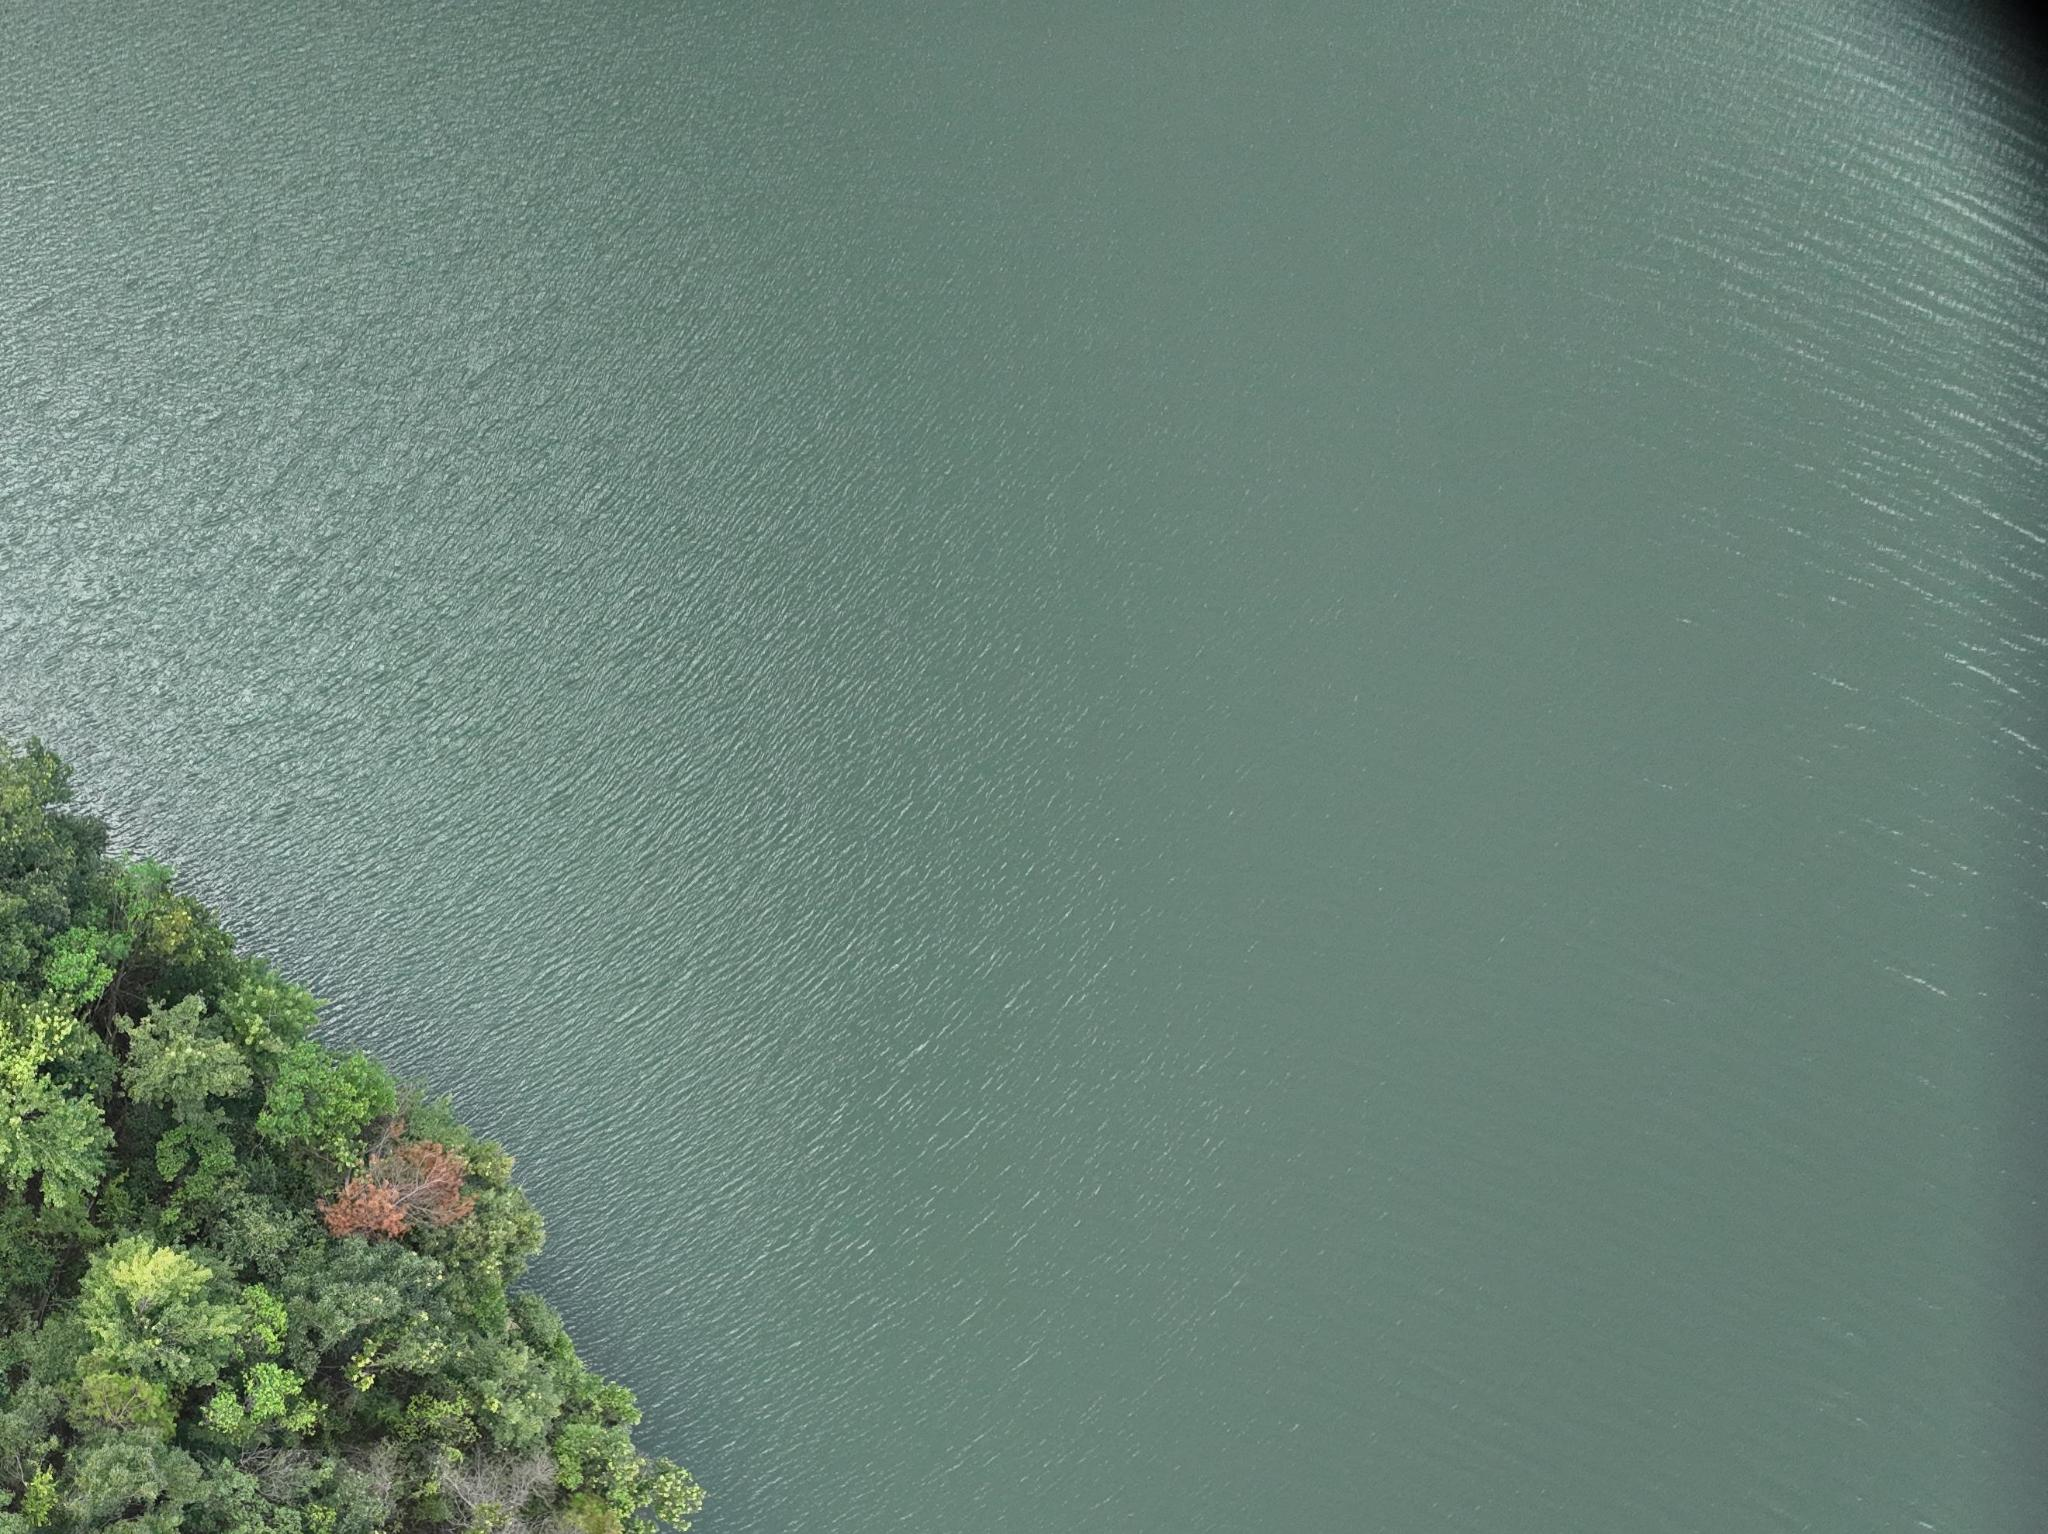dead: (437, 1444, 554, 1523)
heavy: (313, 1120, 479, 1239)
